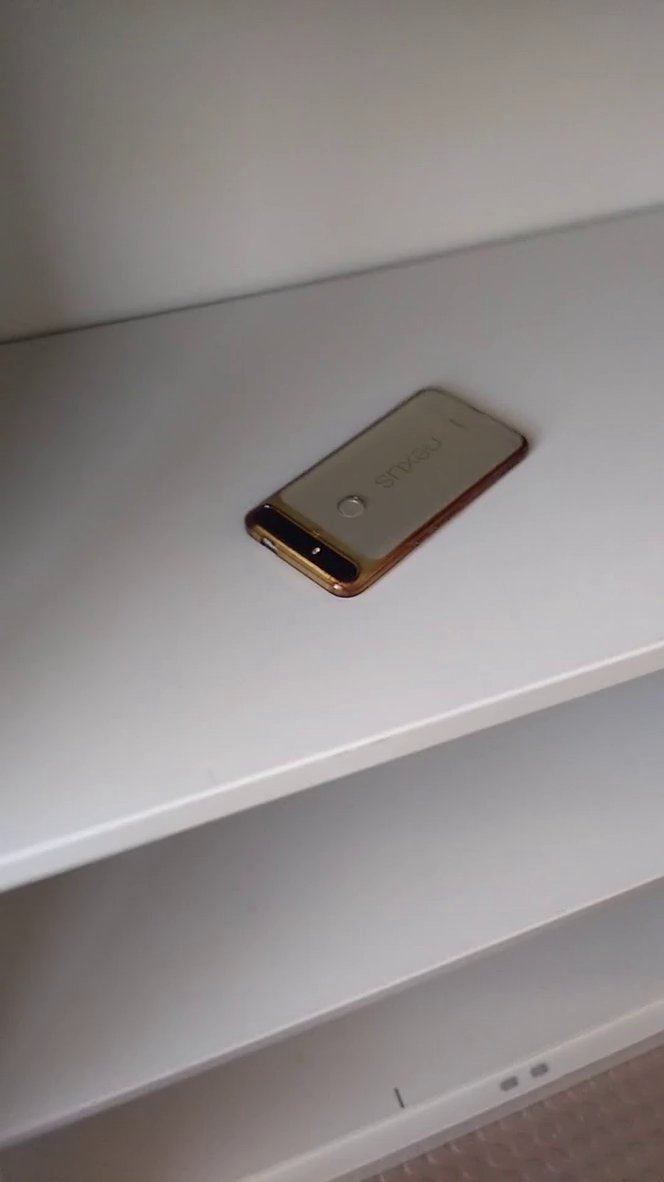phone: (226, 376, 554, 611)
